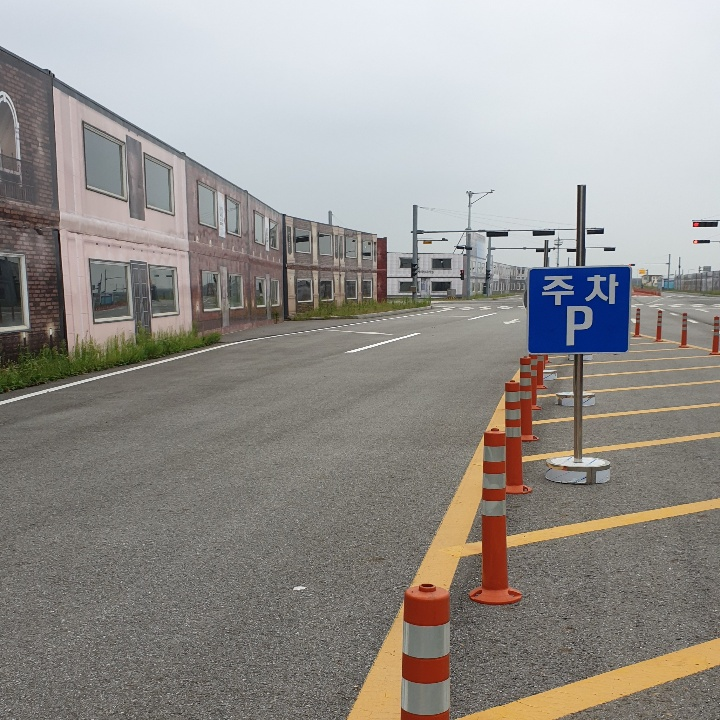parking: (560, 298, 596, 355)
